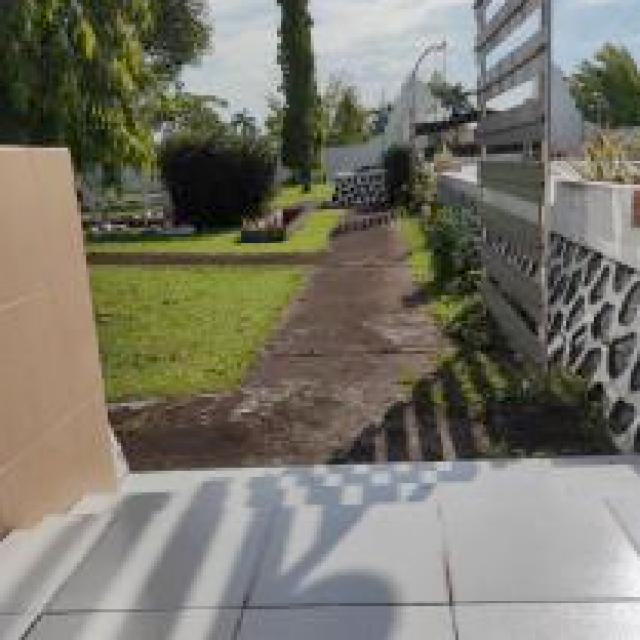downstair: (19, 429, 640, 573)
